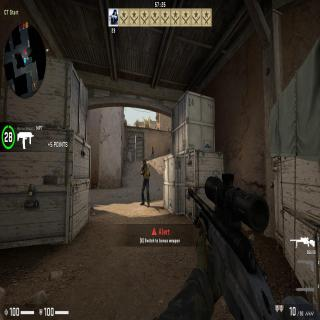T-Body: (140, 158, 150, 207), (151, 146, 154, 157)
T-Head: (143, 158, 146, 166), (152, 147, 153, 148)
